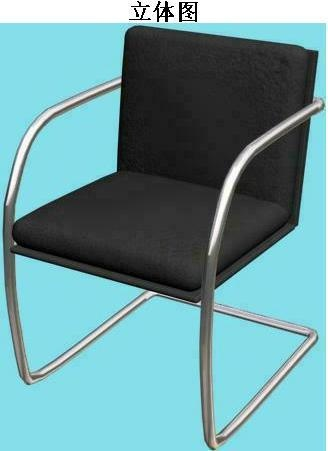obstacle: (216, 112, 324, 450), (2, 290, 208, 450), (1, 25, 128, 195), (16, 256, 141, 369), (16, 89, 119, 217), (169, 24, 324, 95)
